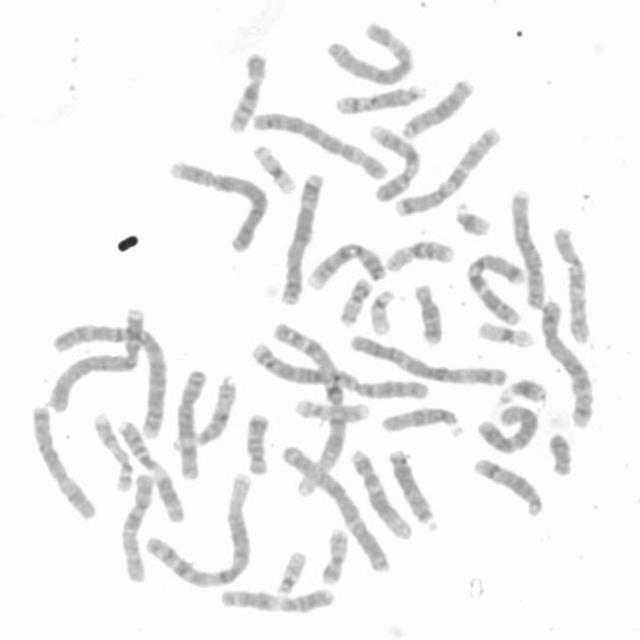A1: (271, 320, 348, 500), (144, 472, 254, 590)
A2: (52, 322, 168, 442), (250, 341, 430, 402)
A3: (279, 443, 392, 575), (348, 332, 509, 387)
B4: (47, 306, 146, 414), (168, 159, 271, 254)
B5: (540, 299, 596, 429), (278, 171, 326, 308)
C10: (552, 226, 593, 346), (119, 472, 155, 584)
C11: (116, 418, 186, 524), (218, 588, 337, 615)
C12: (350, 449, 415, 541), (476, 405, 540, 456)
C6: (250, 110, 391, 183), (325, 19, 415, 86)
C7: (394, 126, 504, 218), (465, 250, 527, 328)
C8: (508, 188, 545, 312), (176, 367, 209, 482)
C9: (364, 124, 422, 203), (304, 241, 388, 292)
D13: (386, 448, 440, 533), (401, 78, 475, 140)
D14: (473, 457, 544, 518), (334, 83, 428, 116)
D15: (170, 381, 237, 453), (380, 406, 465, 439)
E16: (224, 52, 268, 134), (384, 239, 454, 276)
E17: (91, 412, 136, 494), (294, 398, 370, 425)
E18: (413, 282, 444, 344), (244, 412, 271, 477)
F19: (251, 143, 299, 196), (476, 319, 537, 349)
F20: (320, 528, 352, 587), (338, 277, 373, 328)
G21: (452, 202, 493, 237), (497, 378, 548, 404)
G22: (274, 550, 307, 594), (367, 288, 395, 336)
X: (32, 405, 98, 522)
Y: (547, 431, 574, 477)
